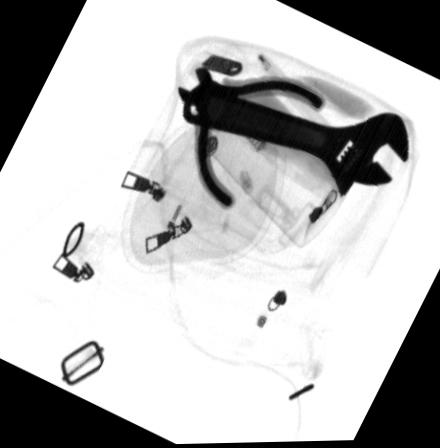Pliers: (175, 67, 326, 210)
Wrench: (179, 80, 408, 198)
